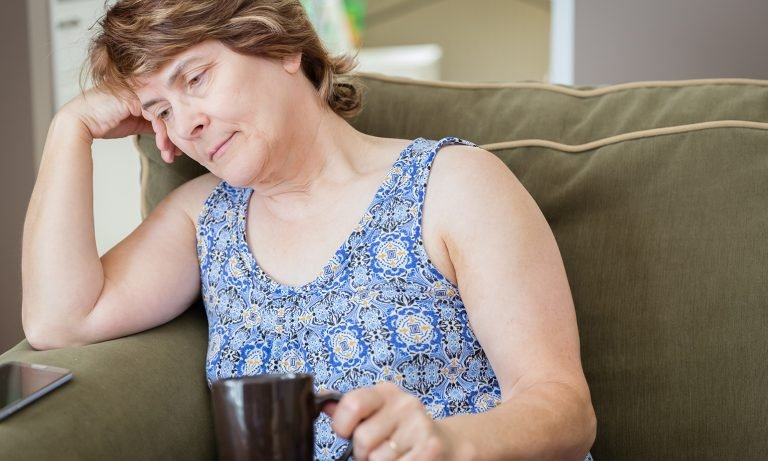Without Helmet: (86, 1, 356, 201)
